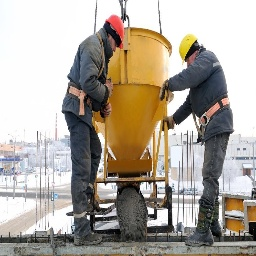helmet: (103, 13, 129, 50), (178, 31, 200, 70)
no-vest: (71, 31, 109, 108), (188, 50, 224, 113)
person: (63, 11, 125, 244), (173, 28, 238, 248)
